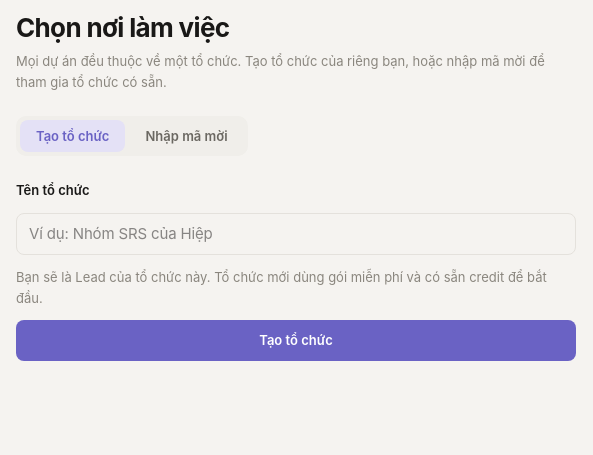
onboarding tổ chức (BPMN Flow 8) › đổi mã sau khi xem trước thì phải kiểm tra lại
Click the tab "Nhập mã mời". click: (187, 136)
box: 130,120 -> 244,152
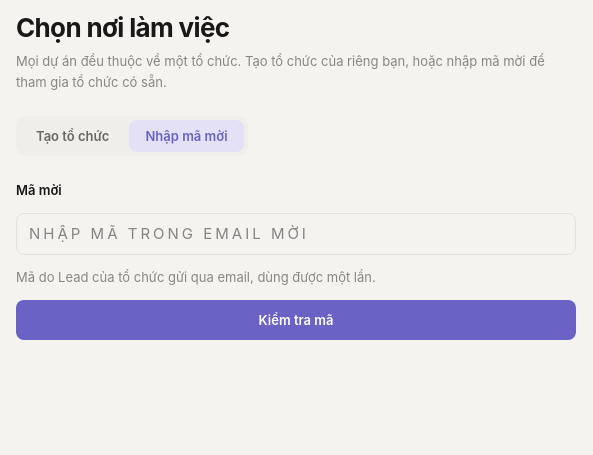
Type "MA-DUNG" into the field labelled "Mã mời". click: (296, 234)
box: 16,213 -> 576,255
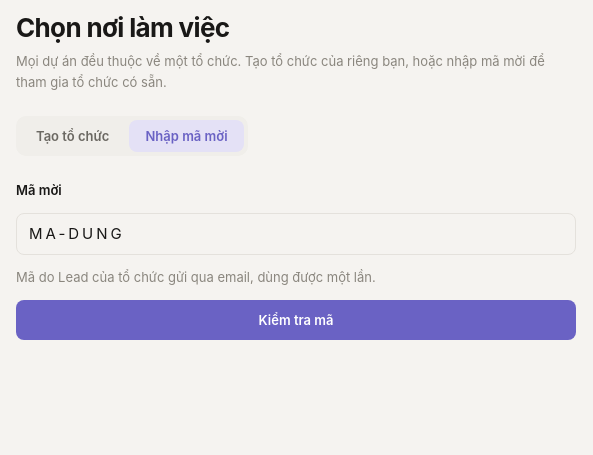
Click the button "Kiểm tra mã". click: (296, 320)
box: 16,300 -> 576,340
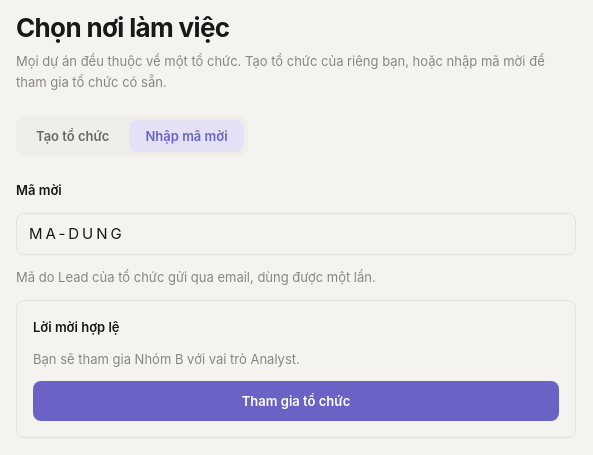
Expected: the text "Lời mời hợp lệ" is shown, 33,319 -> 120,335
Replace the text in the field labelled "Mã mời" with "MA-KHAC". click: (296, 234)
box: 16,213 -> 576,255
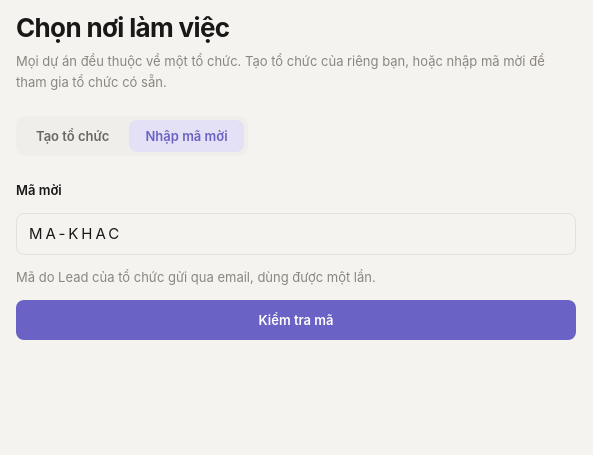
Expected: the text "Lời mời hợp lệ" is gone
Expected: the button "Kiểm tra mã" is shown, 16,300 -> 576,340
